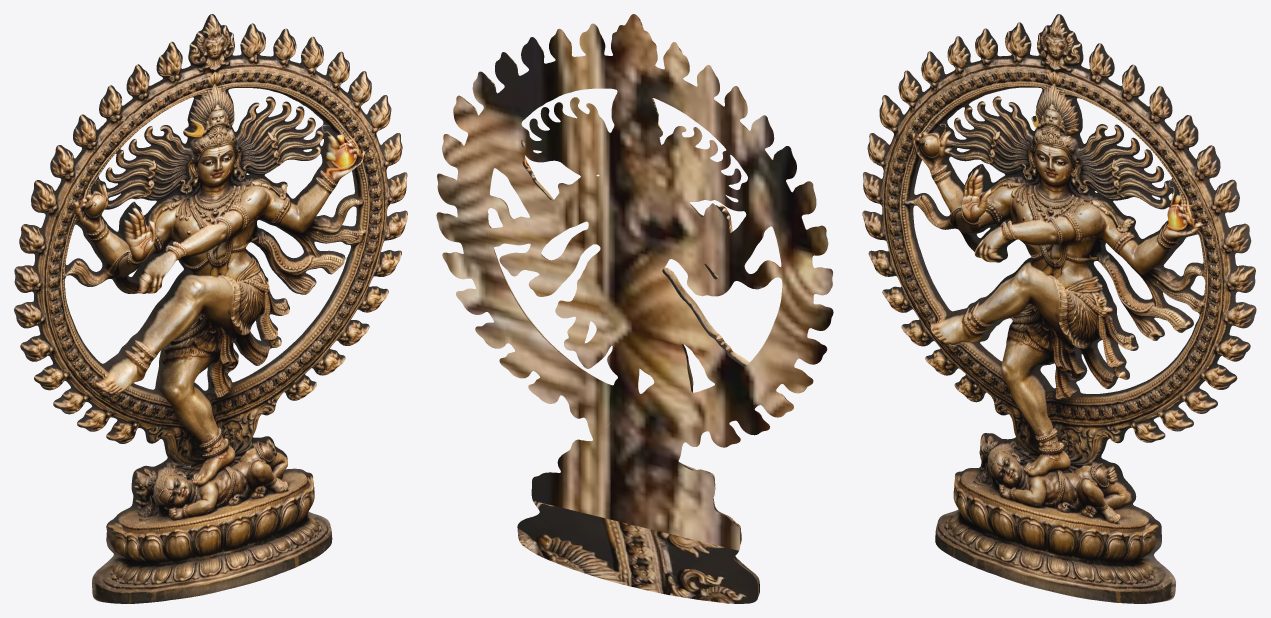
File: natraj.glb
The picture shows the model from 3 angles, left to right: view 1: azimuth 30°, elevation 25°; view 2: azimuth 150°, elevation 25°; view 3: azimuth 330°, elevation 25°; orthographic projection.
Visible parts, largest first — view 1: ImagePlane_TrueDepthMaterial_0; view 2: ImagePlane_TrueDepthMaterial_0; view 3: ImagePlane_TrueDepthMaterial_0.
Boxes of the visible parts, <box> form: ImagePlane_TrueDepthMaterial_0: <box>14,14,407,603</box>; ImagePlane_TrueDepthMaterial_0: <box>436,14,833,603</box>; ImagePlane_TrueDepthMaterial_0: <box>862,14,1256,603</box>.
Bounding box in the file's own units: 0.6995 × 0.9701 × 0.0483.
Materials: 1 (1 with a texture image).
